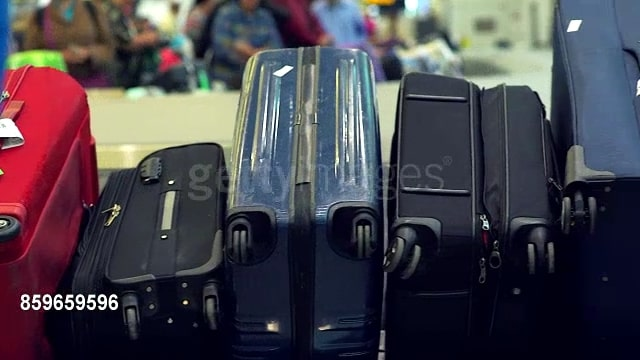baggage: (386, 66, 563, 352), (220, 45, 384, 353), (74, 151, 239, 351), (545, 5, 637, 354)
